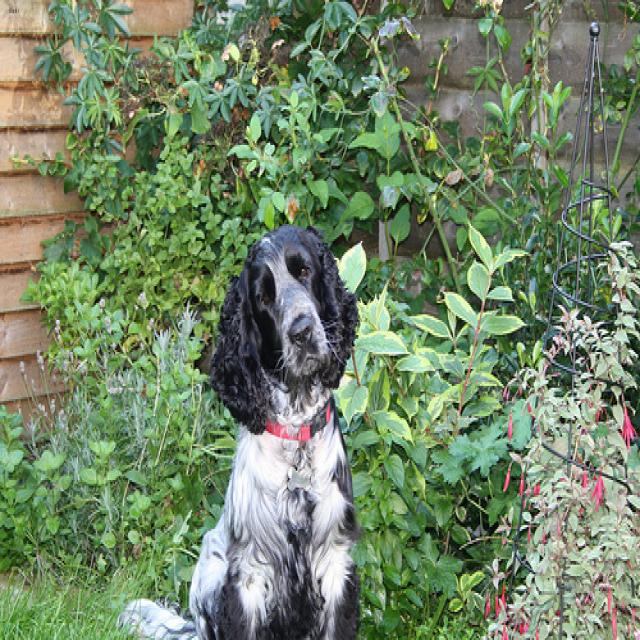dog-english_cocker_spaniel: (115, 205, 366, 636)
